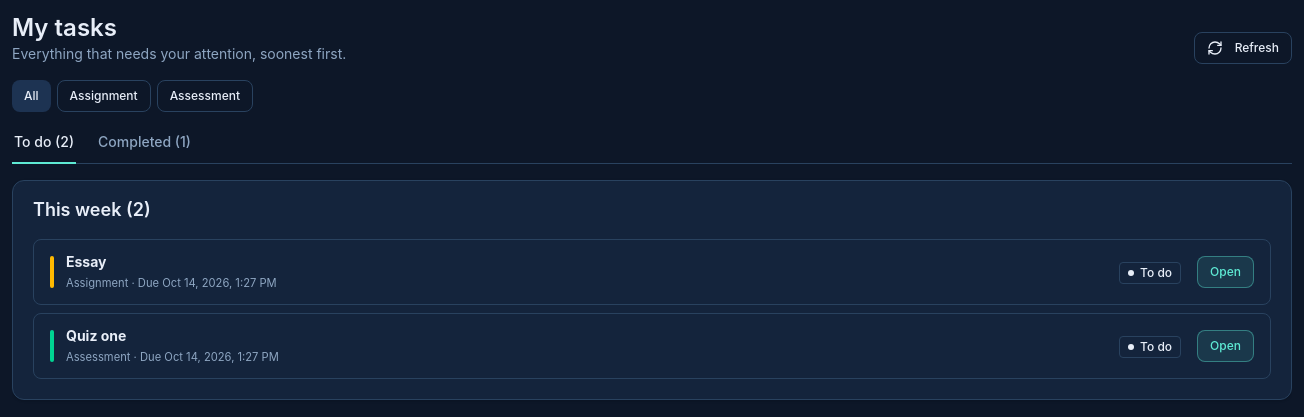
it: MyTasksPage › filters by type and keeps the counts honest
The width and height of the screenshot is (1304, 417).
Expected: the text "Essay" is shown, [66,253,106,270]
Expected: the tab "To do (2)" is shown, [12,128,76,164]
Click the button "Assessment" at (205, 96), box [157,80,253,112]
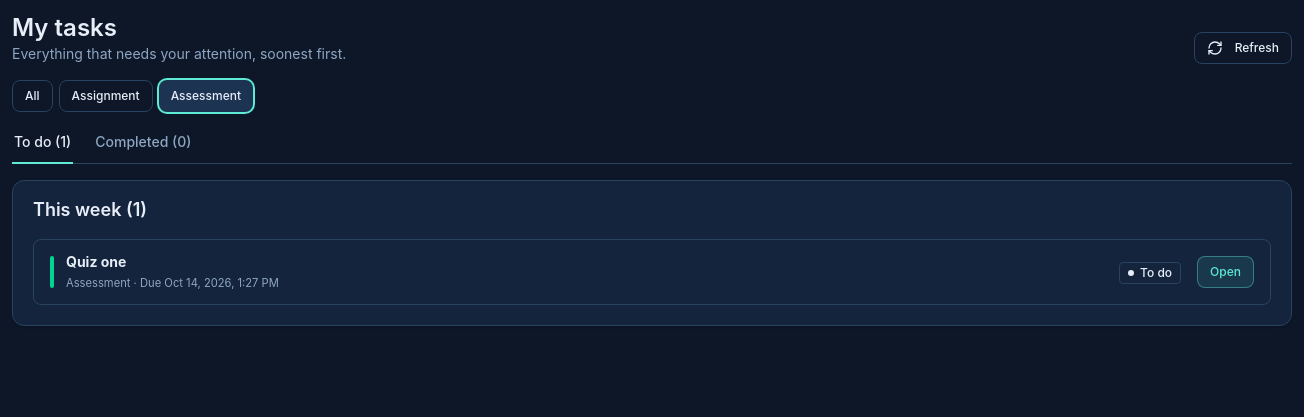
Result: the text "Essay" is gone
Result: the tab "To do (1)" is shown at [12,128,73,164]
Result: the tab "Completed (0)" is shown at [93,128,193,164]
